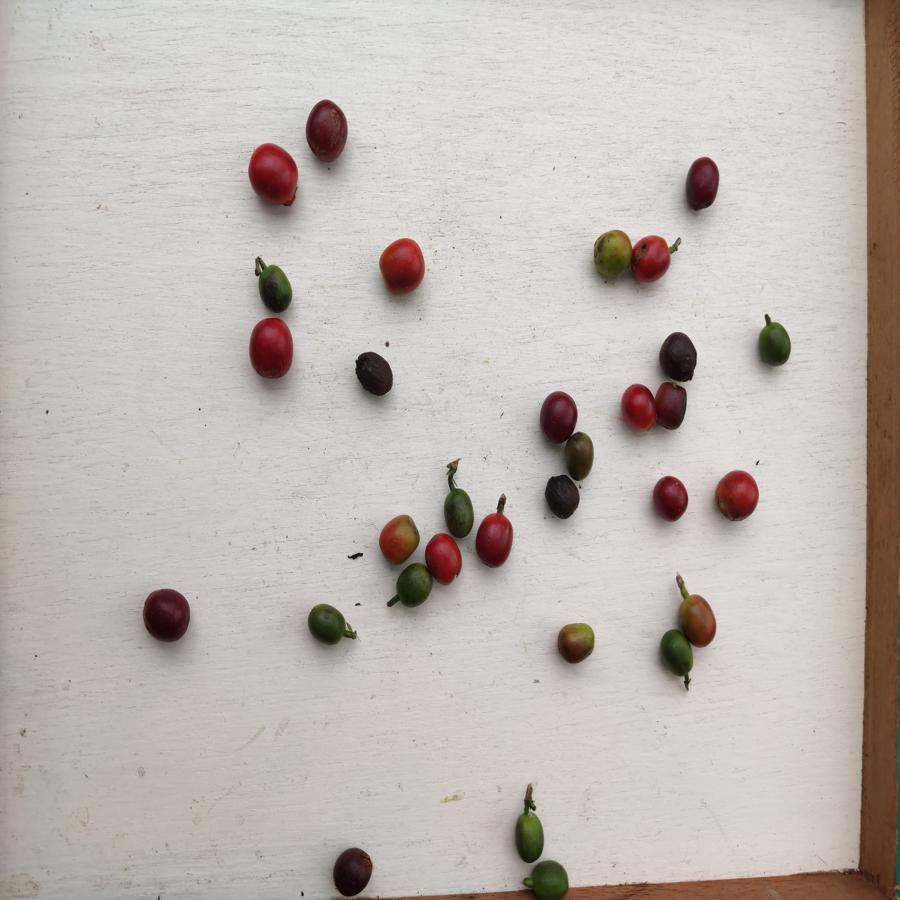Inmaduro: (511, 812, 549, 864), (255, 266, 297, 313), (527, 856, 571, 900), (306, 601, 349, 643), (757, 324, 795, 371), (662, 631, 694, 680), (396, 562, 430, 608), (444, 488, 475, 538)
Maduro: (246, 142, 301, 212), (246, 313, 298, 382), (377, 235, 427, 296), (714, 471, 759, 523), (476, 512, 516, 567), (619, 382, 659, 432), (428, 533, 462, 587), (633, 235, 671, 281)
Pinton: (591, 228, 632, 282), (377, 514, 420, 565), (558, 620, 595, 668), (565, 431, 597, 479)
Sobremaduro: (307, 97, 349, 167), (142, 588, 193, 644), (352, 349, 396, 400), (538, 391, 578, 446), (657, 329, 697, 381), (331, 849, 374, 897), (651, 473, 690, 524), (684, 156, 719, 212), (542, 475, 581, 521), (656, 384, 690, 427)
